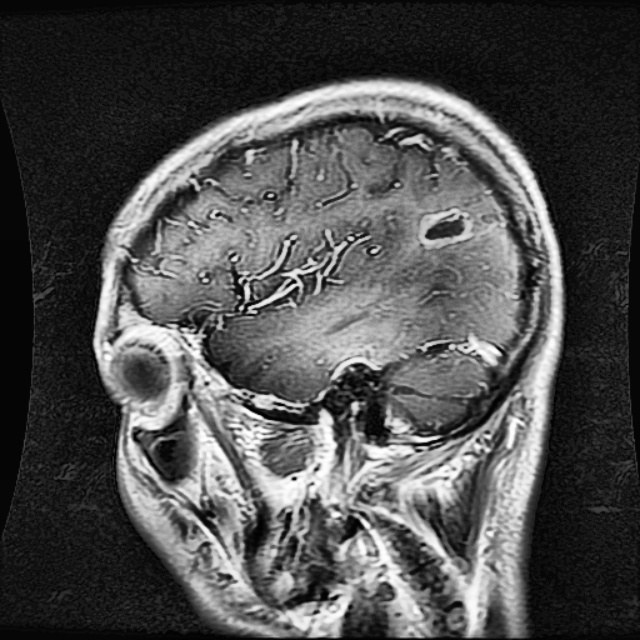Meningioma: (422, 209, 470, 240)
